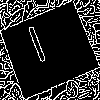I: (24, 24, 53, 73)
